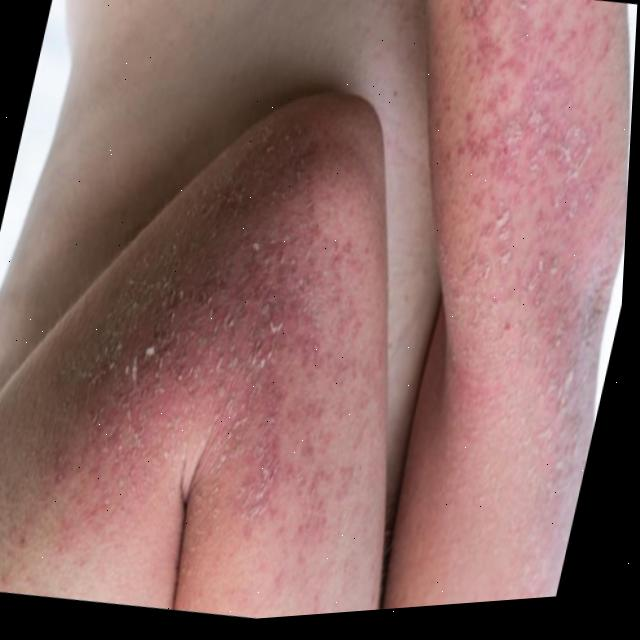Eczema: (18, 72, 445, 600), (324, 0, 639, 556)
